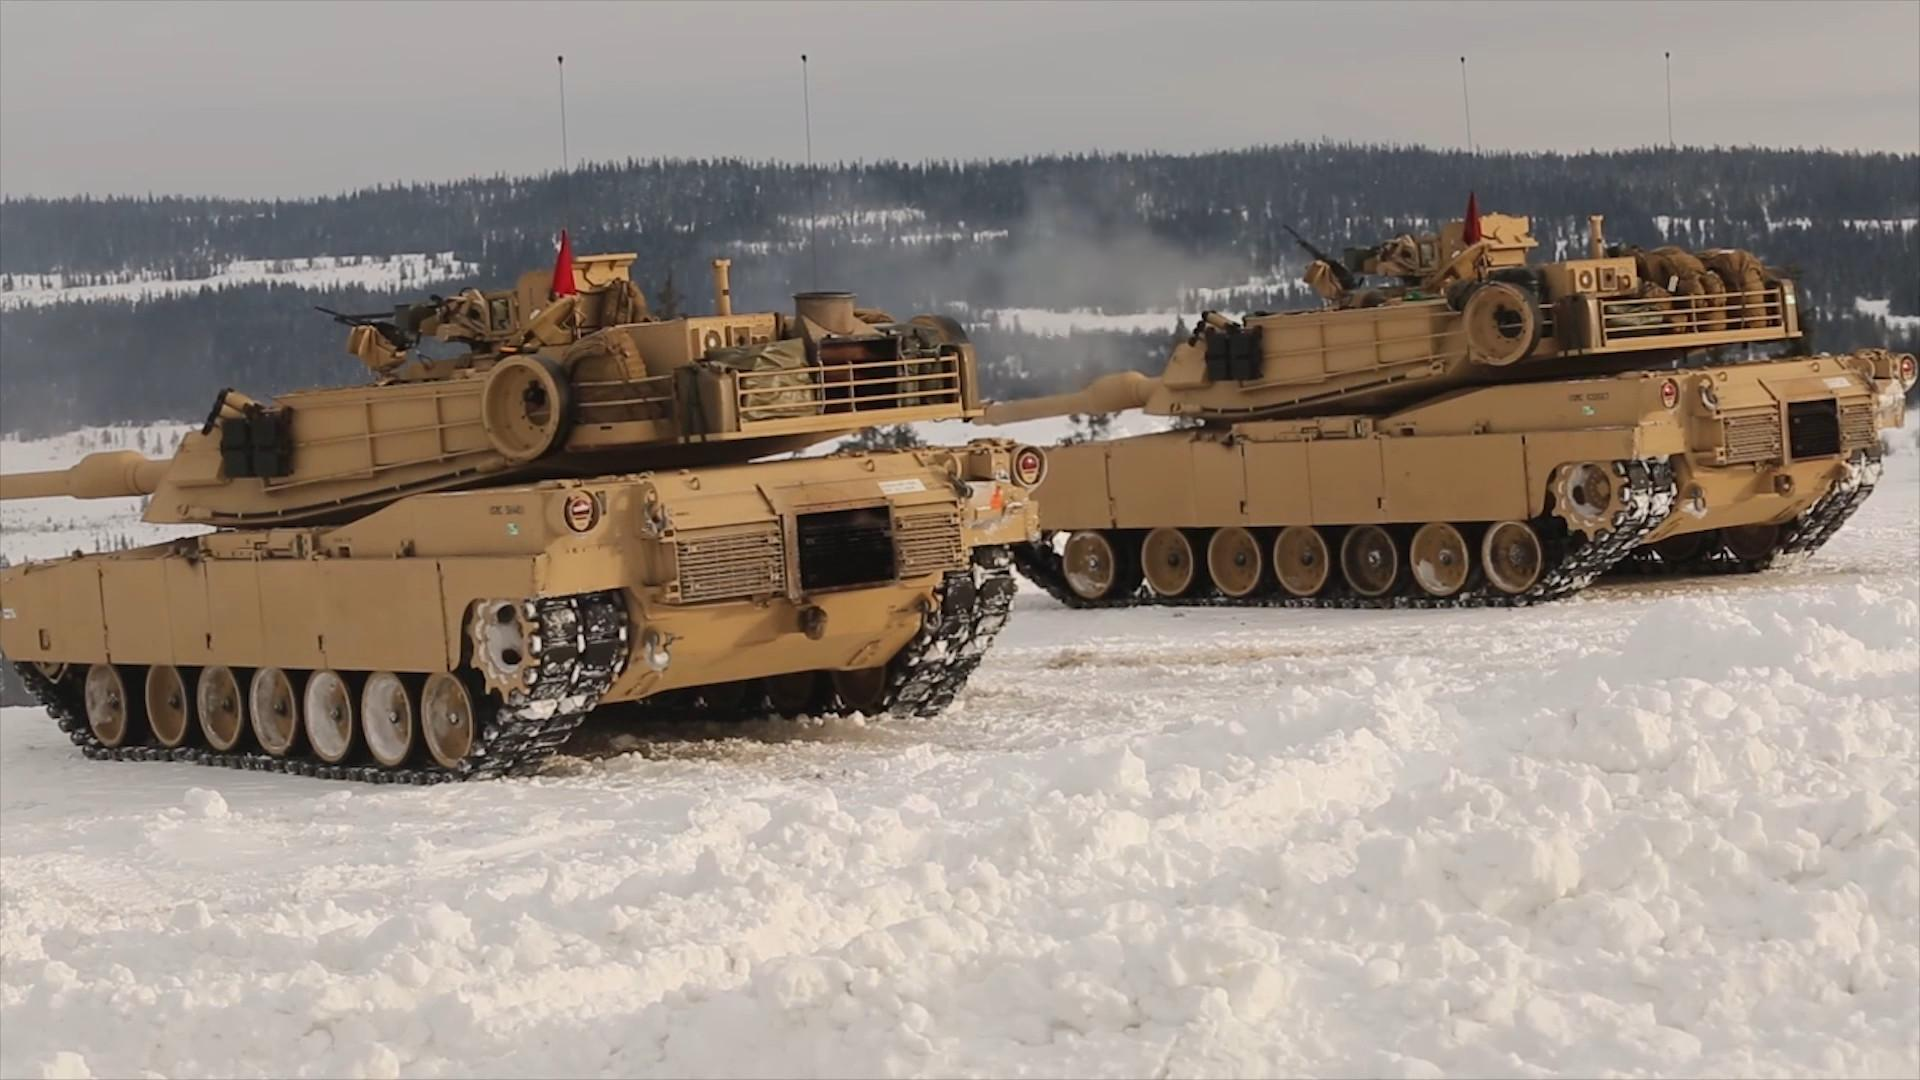tank: (3, 252, 1044, 778), (1015, 207, 1919, 605)
